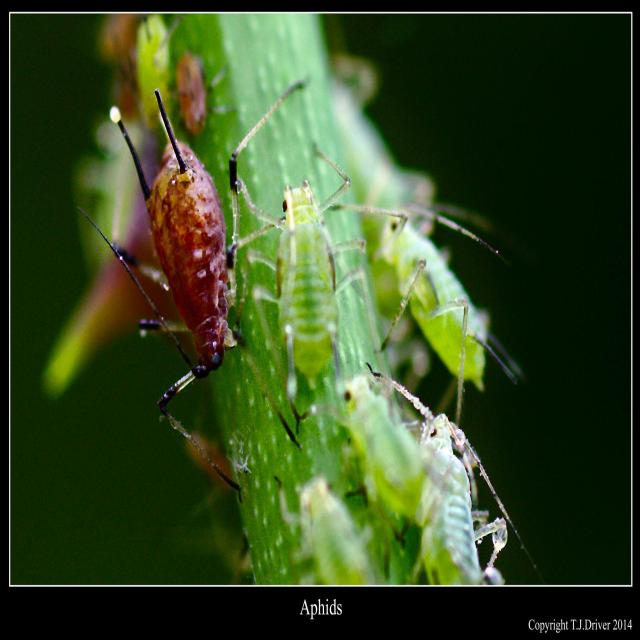Aphids: (101, 87, 281, 437), (235, 160, 377, 407)
